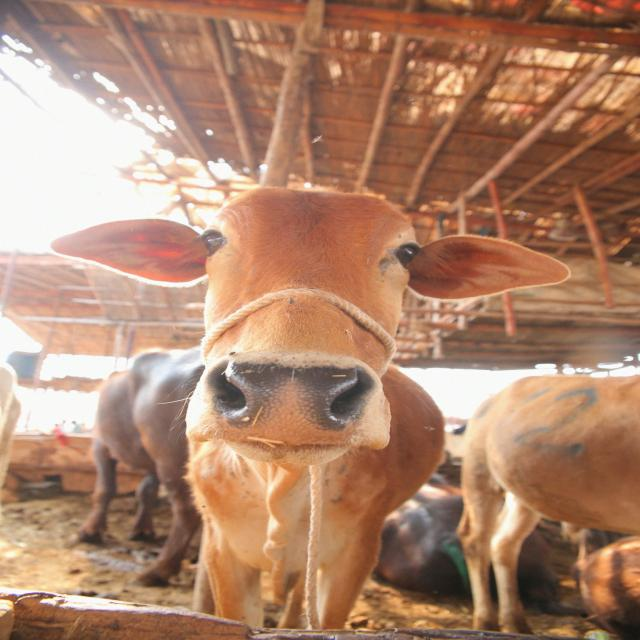muzzles: (204, 348, 379, 447)
